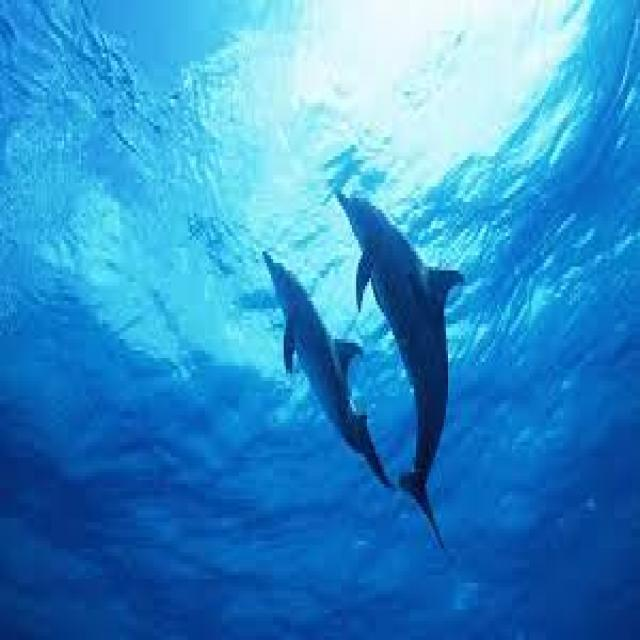dolphin: (220, 206, 394, 572), (328, 156, 469, 537)
